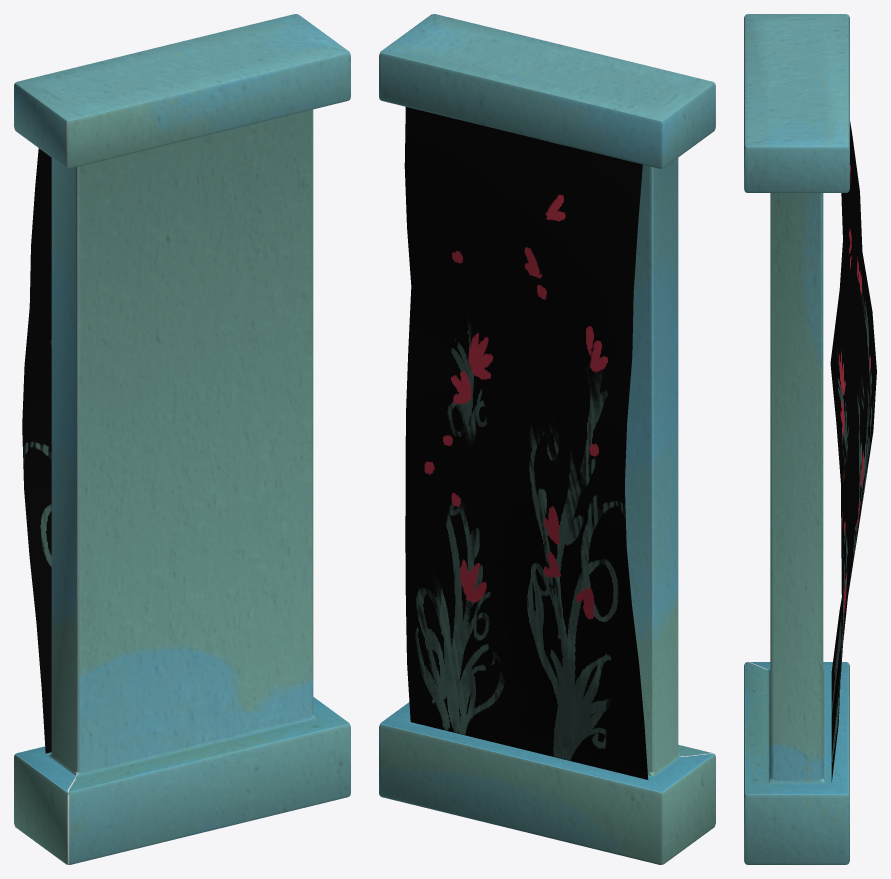
Rendered from TOMB_WALL_1_001.obj.
3 views of the same model, side by side, from view 1: azimuth 30°, elevation 25°; view 2: azimuth 150°, elevation 25°; view 3: azimuth 270°, elevation 25° (orthographic). The views are drawn at different scales.
Visible parts, largest first — view 1: TOMB_WALL_1_001; view 2: TOMB_WALL_1_001; view 3: TOMB_WALL_1_001.
Part boxes in pixels (<box>): TOMB_WALL_1_001: <box>14,14,350,864</box>; TOMB_WALL_1_001: <box>379,14,715,864</box>; TOMB_WALL_1_001: <box>744,14,876,864</box>.
Size of the model in its own units: 1.2 by 3 by 0.5023.
Materials: 3 (3 with a texture image).
